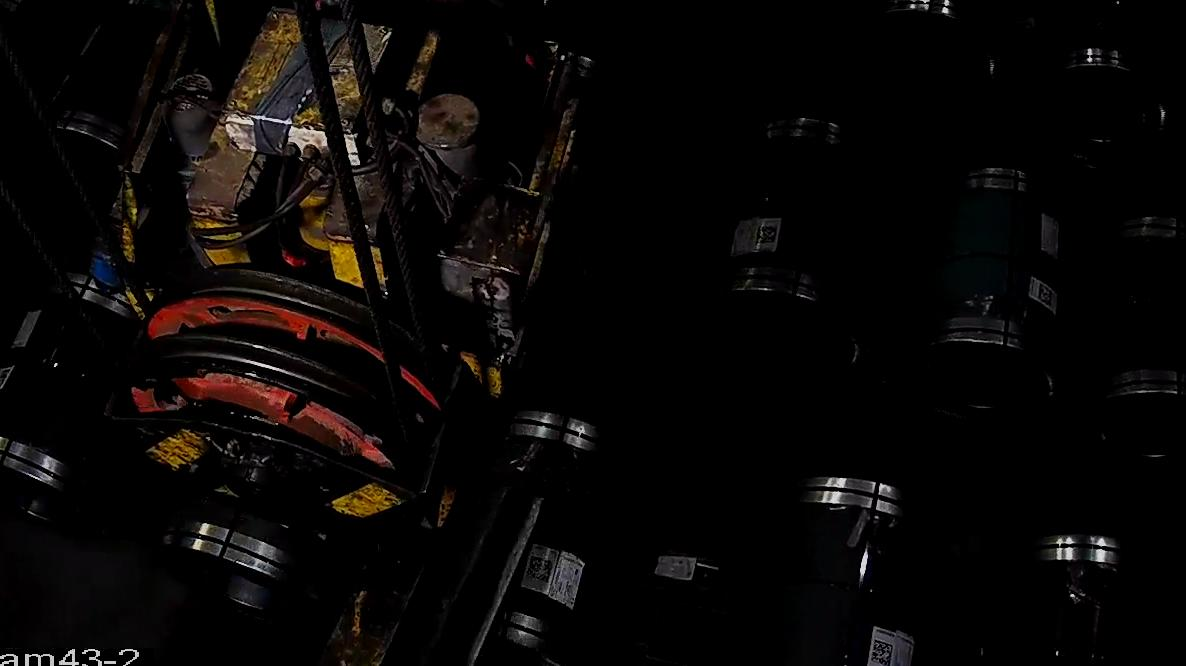data matrix: (525, 554, 556, 586), (868, 638, 897, 666), (755, 224, 780, 247), (1037, 282, 1056, 310)
